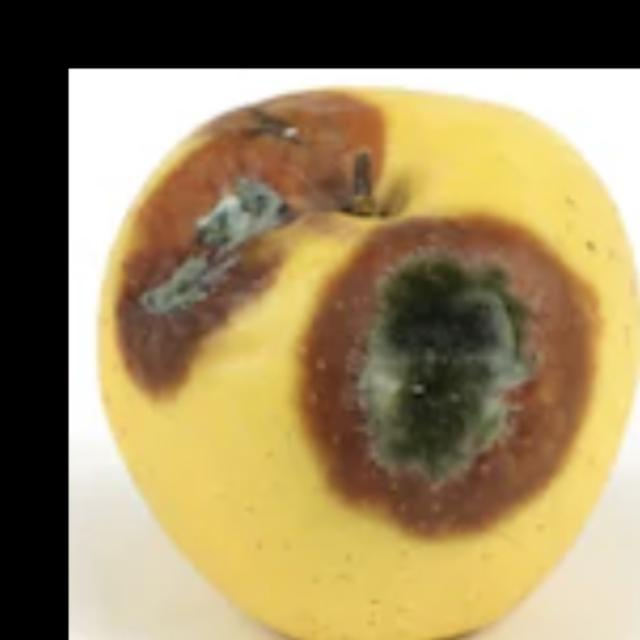Apel Tidak Segar: (79, 96, 640, 636)
